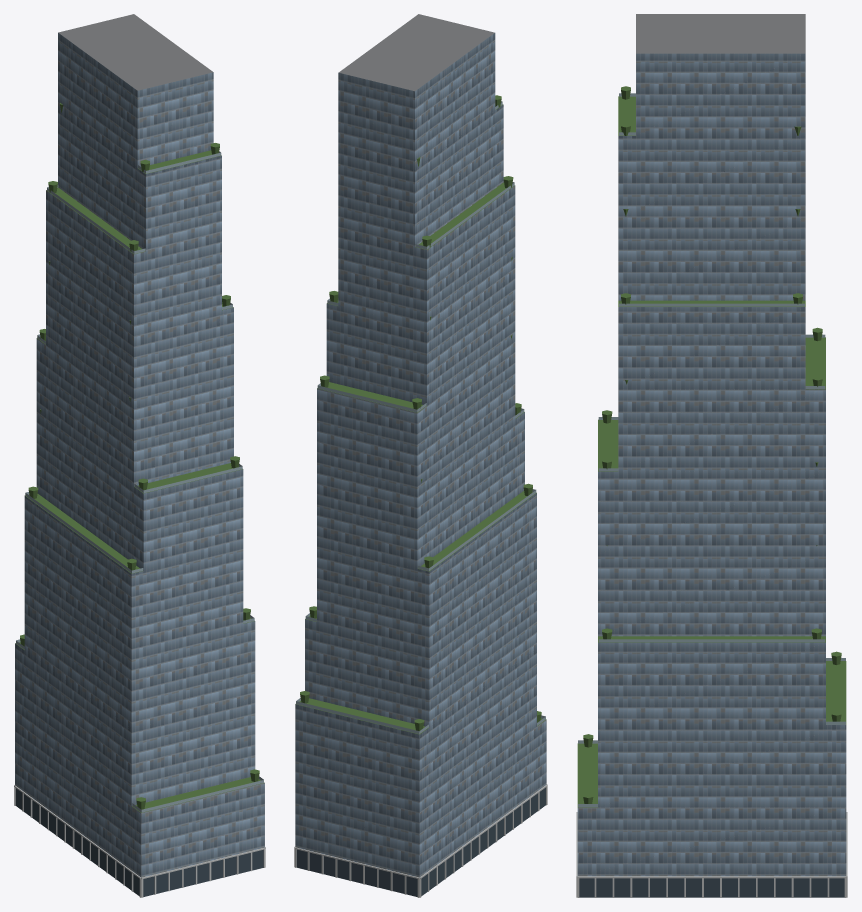
The model's file is the_spiral.glb.
The picture shows the model from 3 angles, left to right: view 1: azimuth 30°, elevation 25°; view 2: azimuth 150°, elevation 25°; view 3: azimuth 270°, elevation 25°; orthographic projection. The views are drawn at different scales.
Parts seen in each view (by area): view 1: the_spiral; view 2: the_spiral; view 3: the_spiral.
Boxes of the visible parts, x1,y1,x2,y2 form: the_spiral: (14, 14, 265, 897); the_spiral: (294, 14, 547, 897); the_spiral: (576, 14, 847, 897).
Bounding box in the file's own units: 52.8 × 314 × 92.82.
2 materials, 2 textured.
